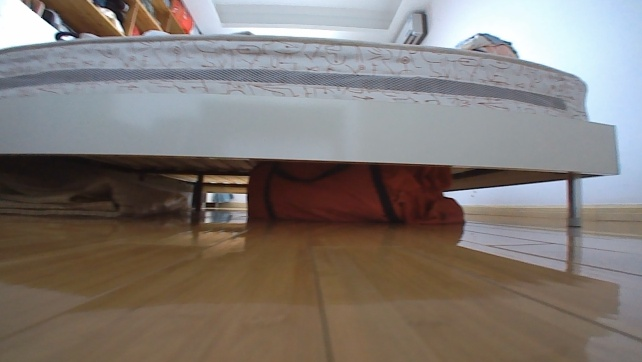bed1: (0, 18, 623, 229)
